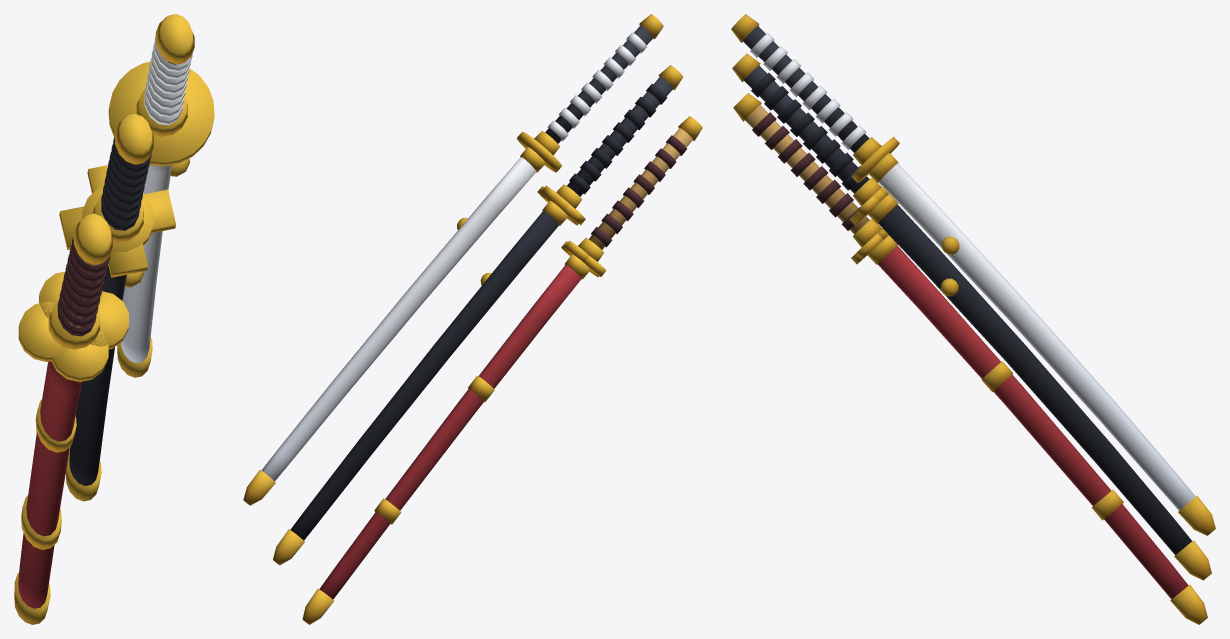
File: Zoro_Katanas.fbx
3 renders of one model, left to right at view 1: azimuth 30°, elevation 25°; view 2: azimuth 150°, elevation 25°; view 3: azimuth 270°, elevation 25°, orthographic. The views are drawn at different scales.
Visible parts, largest first — view 1: Zoro_Katanas; view 2: Zoro_Katanas; view 3: Zoro_Katanas.
Boxes of the visible parts, left/top/right/bottom form: Zoro_Katanas: left=14, top=14, right=214, bottom=624; Zoro_Katanas: left=243, top=14, right=702, bottom=624; Zoro_Katanas: left=731, top=14, right=1215, bottom=624.
Bounding box in the file's own units: 1.82 × 3.5 × 2.87.
1 material, 1 textured.
